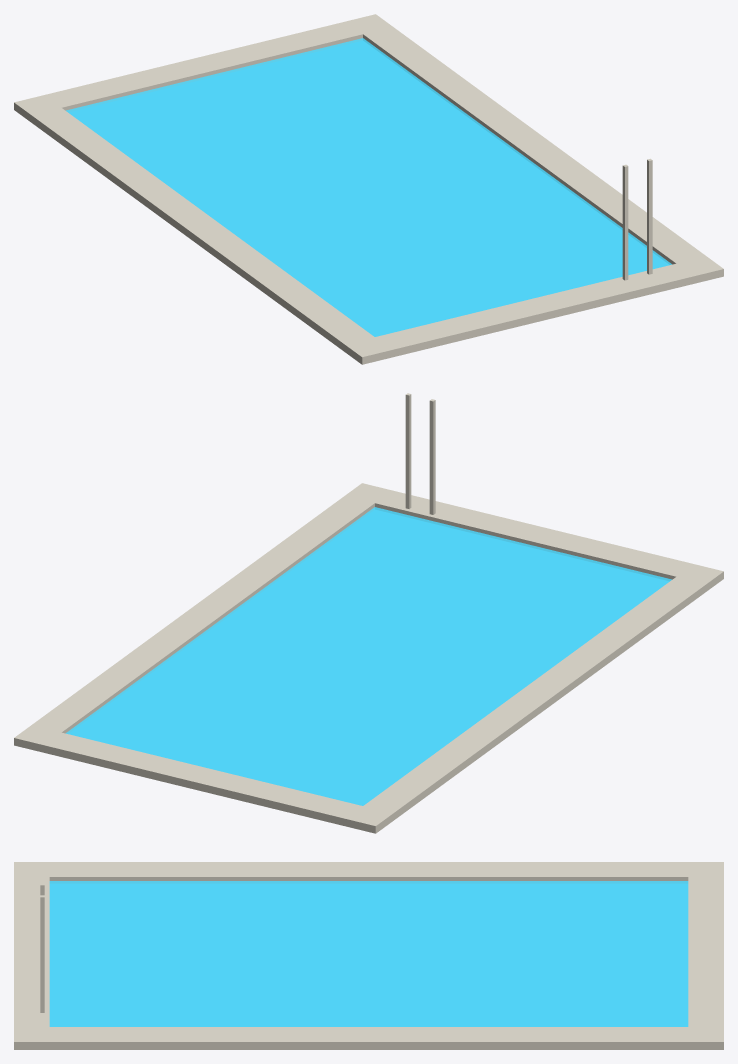
The model's file is pool.glb.
3 renders of one model, top to bottom at view 1: azimuth 30°, elevation 25°; view 2: azimuth 150°, elevation 25°; view 3: azimuth 270°, elevation 25°, orthographic.
Parts seen in each view (by area): view 1: pool; view 2: pool; view 3: pool.
Boxes of the visible parts, box(x1,y1,x2,y2) form: pool: box(14, 14, 723, 364); pool: box(14, 393, 723, 833); pool: box(14, 862, 723, 1049).
Bounding box in the file's own units: 3 × 0.96 × 5.
